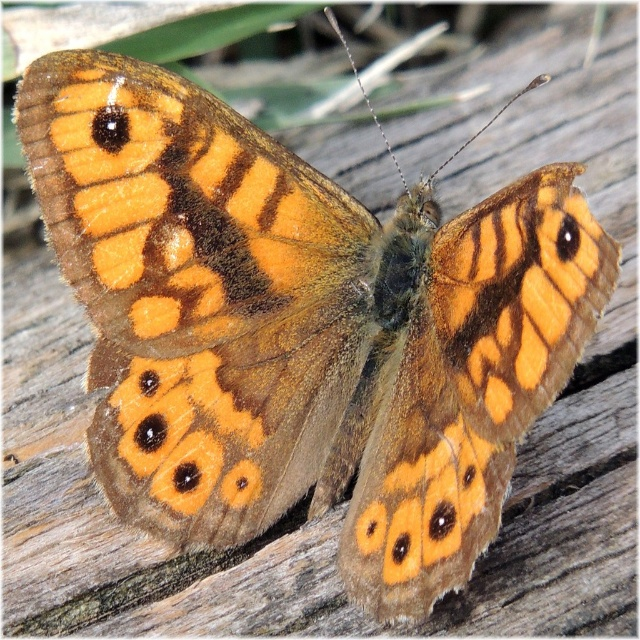Butterfly: (27, 4, 635, 610)
